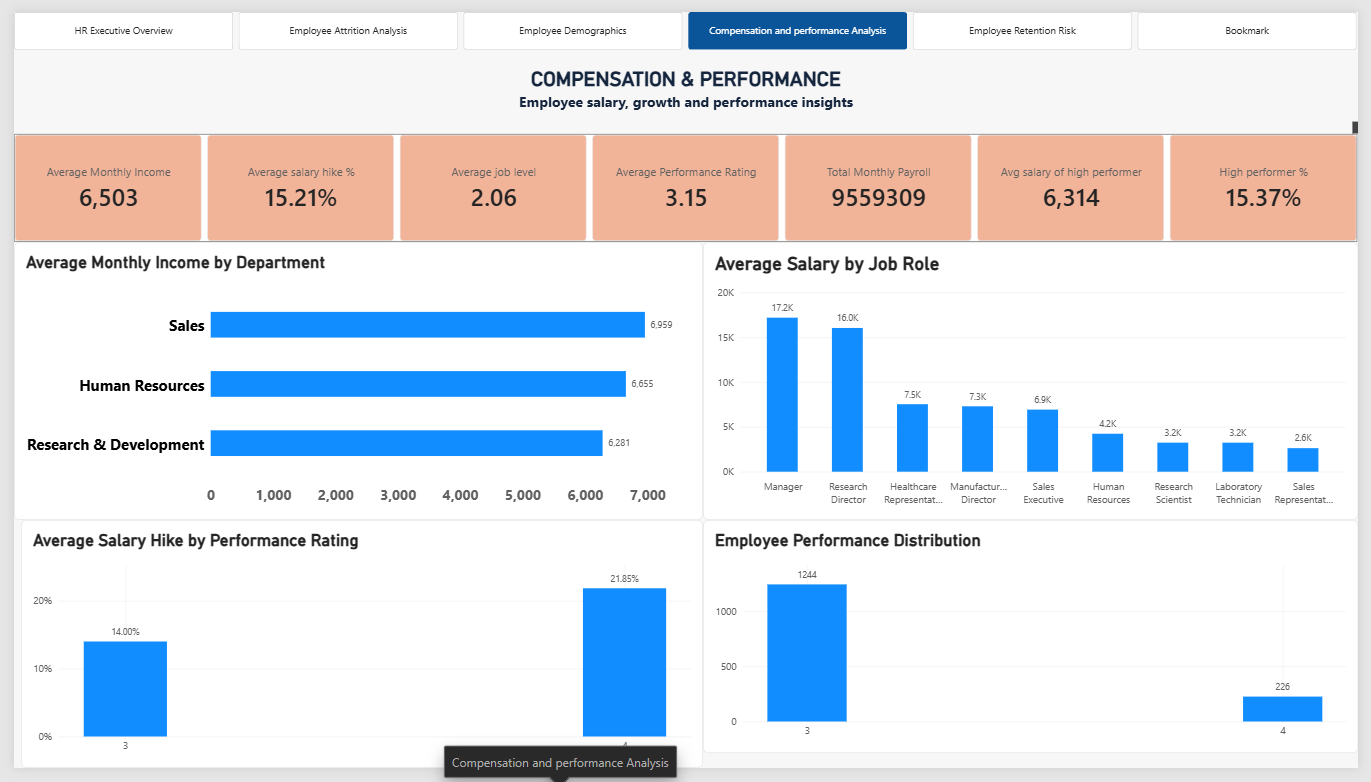

This screenshot's page, from the dashboard's own definition file:
{"tool":"powerbi","page":{"name":"Compensation and Performance Analysis","canvas":[1920,1080],"ordinal":3},"visuals":[{"type":"textbox","title":"COMPENSATION & PERFORMANCE","box":[0,78.6,1920,95.7],"z":0},{"type":"cardVisual","fields":{"Data":["_Measures.Average Monthly Income","_Measures.Average salary hike %","_Measures.Average job level","_Measures.Average Performance Rating","_Measures.Total Monthly Payroll","_Measures.Avg salary of high performer","_Measures.High performer %"]},"box":[0,174.3,1920,154.3],"z":1},{"type":"clusteredBarChart","title":"Average Monthly Income by Department","fields":{"Category":["Dim_Department.Department"],"Y":["_Measures.Average Monthly Income"]},"box":[0,328.6,984.3,397.1],"z":2},{"type":"columnChart","title":"Average Salary by Job Role","fields":{"Category":["Dim_JobRole.JobRole"],"Y":["_Measures.Average Monthly Income"]},"box":[984.3,328.6,935.7,397.1],"z":3},{"type":"clusteredColumnChart","title":"Employee Performance Distribution","fields":{"Category":["Fact_Employee.PerformanceRating"],"Y":["_Measures.Total Employees"]},"box":[984.3,725.7,935.7,332.9],"z":6},{"type":"clusteredColumnChart","title":"Average Salary Hike by Performance Rating","fields":{"Category":["Fact_Employee.PerformanceRating"],"Y":["_Measures.Average salary hike %"]},"box":[10,725.7,974.3,354.3],"z":7},{"type":"pageNavigator","box":[0,0,1920,54.3],"z":8}]}

Visuals, with their boxes on the page's 1920x1080 design canvas (x1, y1, x2, y2). These are canvas units, not pixel positions in the 1371x782 screenshot, which may show the page scaled, cropped or inside an application window:
"COMPENSATION & PERFORMANCE" textbox: Rect(0, 79, 1920, 174)
cardVisual - _Measures.Average Monthly Income x _Measures.Average salary hike %: Rect(0, 174, 1920, 329)
"Average Monthly Income by Department" clusteredBarChart: Rect(0, 329, 984, 726)
"Average Salary by Job Role" columnChart: Rect(984, 329, 1920, 726)
"Employee Performance Distribution" clusteredColumnChart: Rect(984, 726, 1920, 1059)
"Average Salary Hike by Performance Rating" clusteredColumnChart: Rect(10, 726, 984, 1080)
pageNavigator: Rect(0, 0, 1920, 54)
